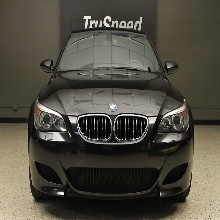no damage: (27, 28, 196, 203)
